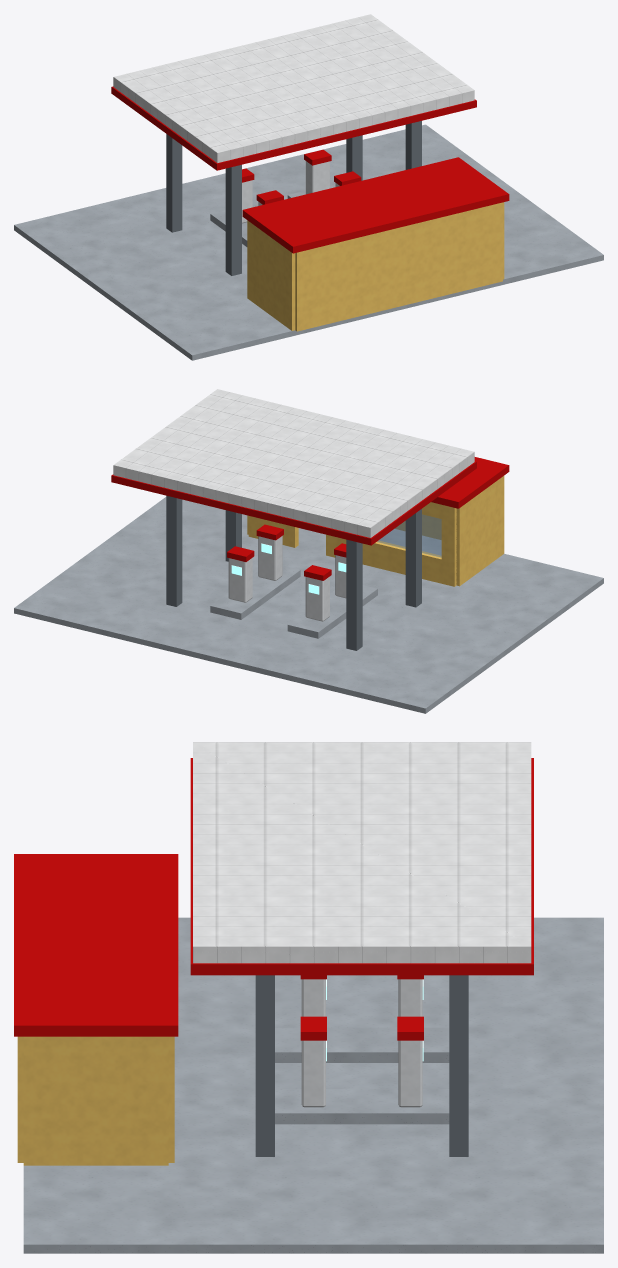
The model's file is env_gas_station.glb.
3 views of the same model, one above another, from view 1: azimuth 30°, elevation 25°; view 2: azimuth 150°, elevation 25°; view 3: azimuth 270°, elevation 25° (orthographic). The views are drawn at different scales.
Visible parts, largest first — view 1: env_gas_station; view 2: env_gas_station; view 3: env_gas_station.
Boxes of the visible parts, bbox=[...] form: env_gas_station: bbox=[14, 14, 603, 360]; env_gas_station: bbox=[14, 389, 603, 713]; env_gas_station: bbox=[14, 742, 603, 1253].
Size of the model in its own units: 16 by 5.6 by 12.2.
8 materials, 4 textured.
